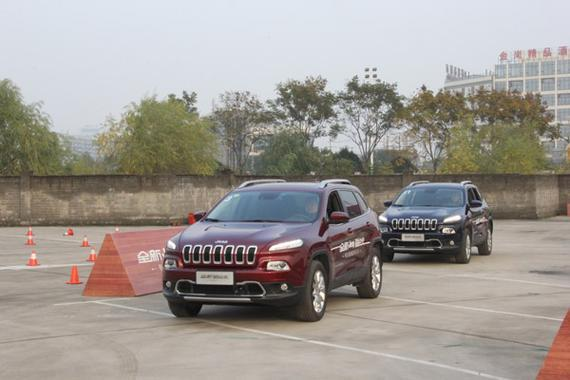car: (162, 179, 382, 324), (374, 179, 493, 264)
